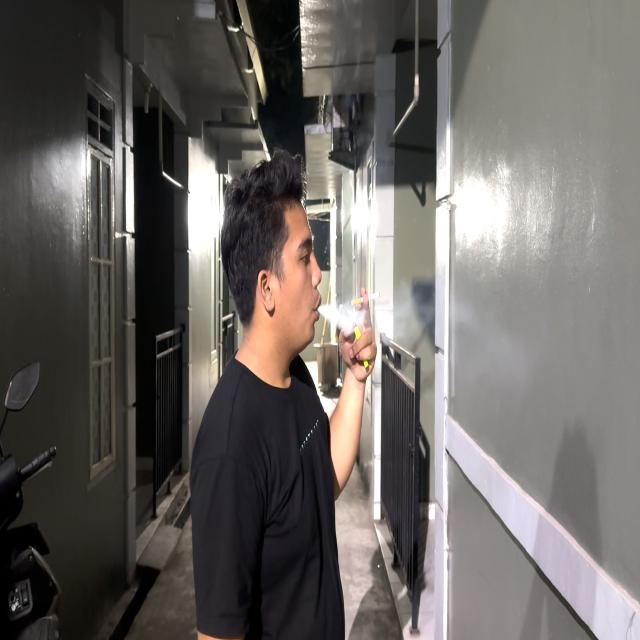cigarette: (351, 291, 381, 307)
smoking: (218, 144, 382, 502)
